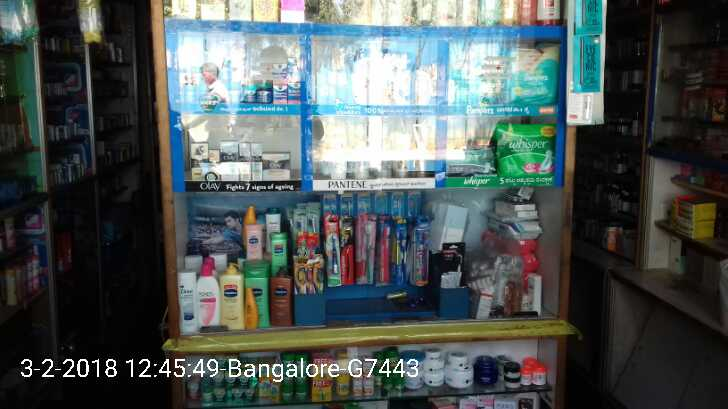beauty: (260, 151, 295, 182), (220, 142, 239, 184), (190, 144, 207, 183), (238, 141, 249, 182)
pharmacy: (496, 120, 556, 180), (505, 46, 556, 106), (274, 76, 300, 104)
